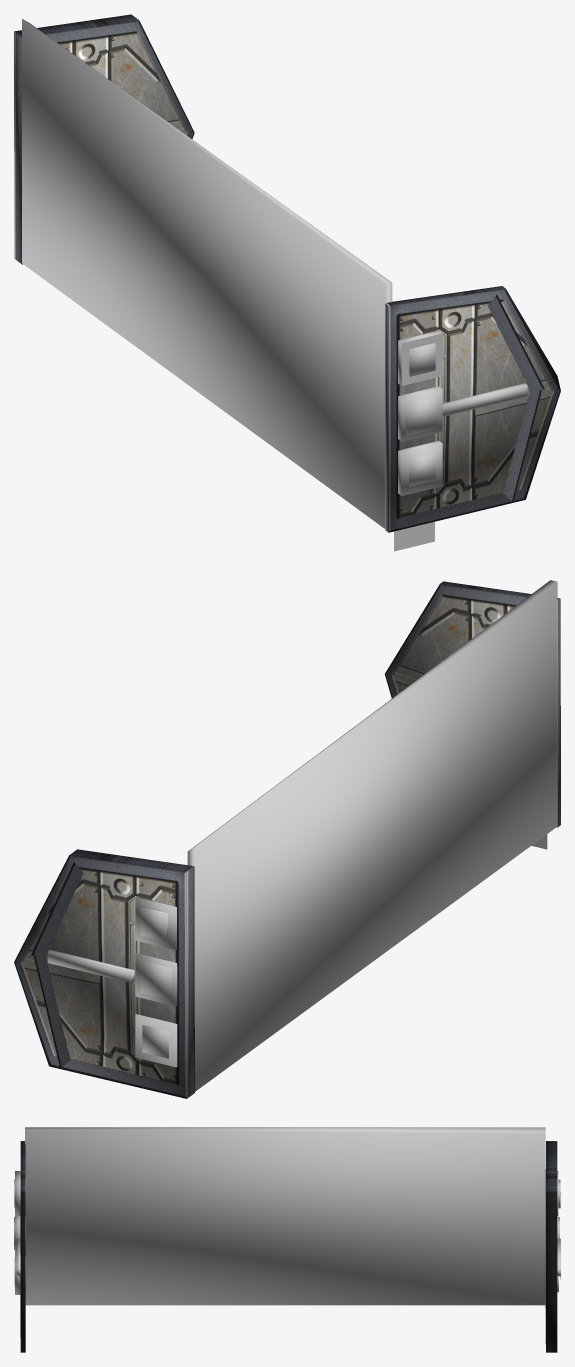
File: blocked.fbx
3 renders of one model, top to bottom at view 1: azimuth 30°, elevation 25°; view 2: azimuth 150°, elevation 25°; view 3: azimuth 270°, elevation 25°, orthographic. The views are drawn at different scales.
Parts seen in each view (by area): view 1: Mesh_027, Mesh_019, Mesh_014, Mesh_040, Mesh_010, Mesh_029, Mesh_031; view 2: Mesh_027, Mesh_019, Mesh_014, Mesh_010, Mesh_029, Mesh_031; view 3: Mesh_027, Mesh_019, Mesh_014.
Part boxes in pixels (x1,y1,x2,y2): Mesh_027: [14, 14, 560, 532]; Mesh_019: [394, 330, 442, 551]; Mesh_014: [442, 383, 527, 416]; Mesh_040: [401, 333, 442, 385]; Mesh_010: [406, 396, 437, 435]; Mesh_029: [409, 343, 435, 376]; Mesh_031: [409, 453, 435, 486]; Mesh_027: [14, 580, 560, 1098]; Mesh_019: [135, 834, 547, 1067]; Mesh_014: [47, 949, 134, 983]; Mesh_010: [140, 961, 171, 1000]; Mesh_029: [140, 907, 167, 941]; Mesh_031: [142, 1025, 168, 1058]; Mesh_027: [20, 1127, 560, 1352]; Mesh_019: [15, 1171, 558, 1294]; Mesh_014: [16, 1238, 560, 1276].
Size of the model in its own units: 53.72 by 80.17 by 205.
